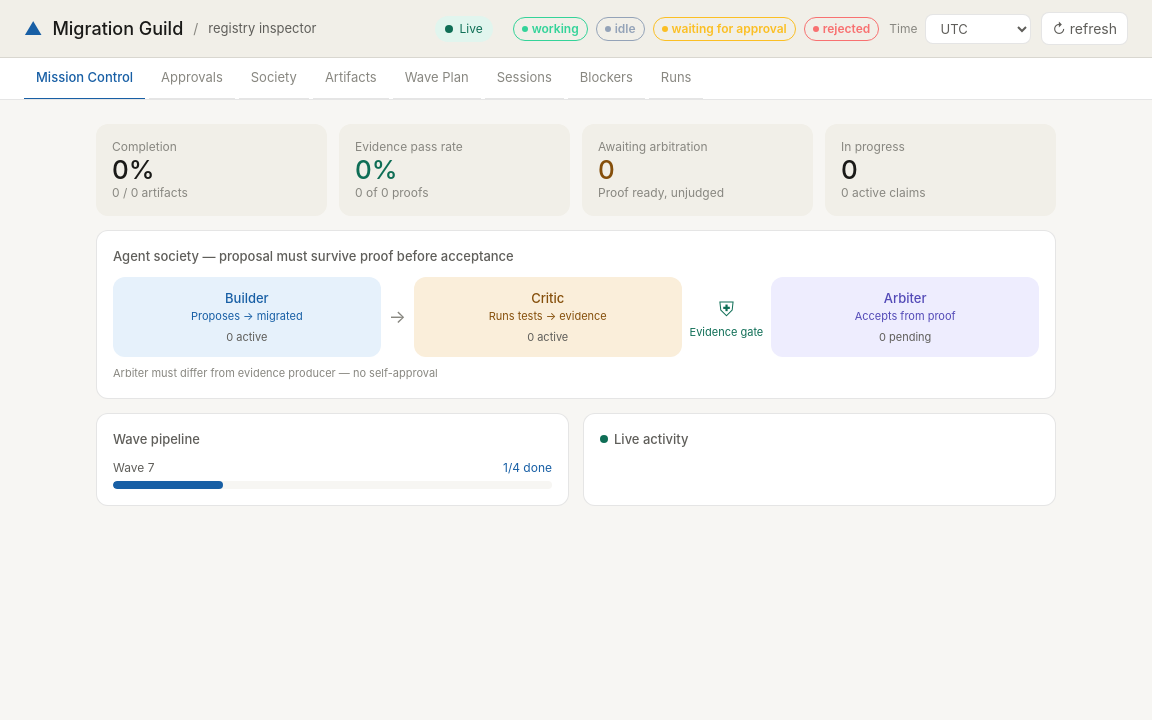
Test case: App shell › shows a loading indicator while data is being fetched
Click the tab "Artifacts" at (351, 78), box [313,58,389,98]
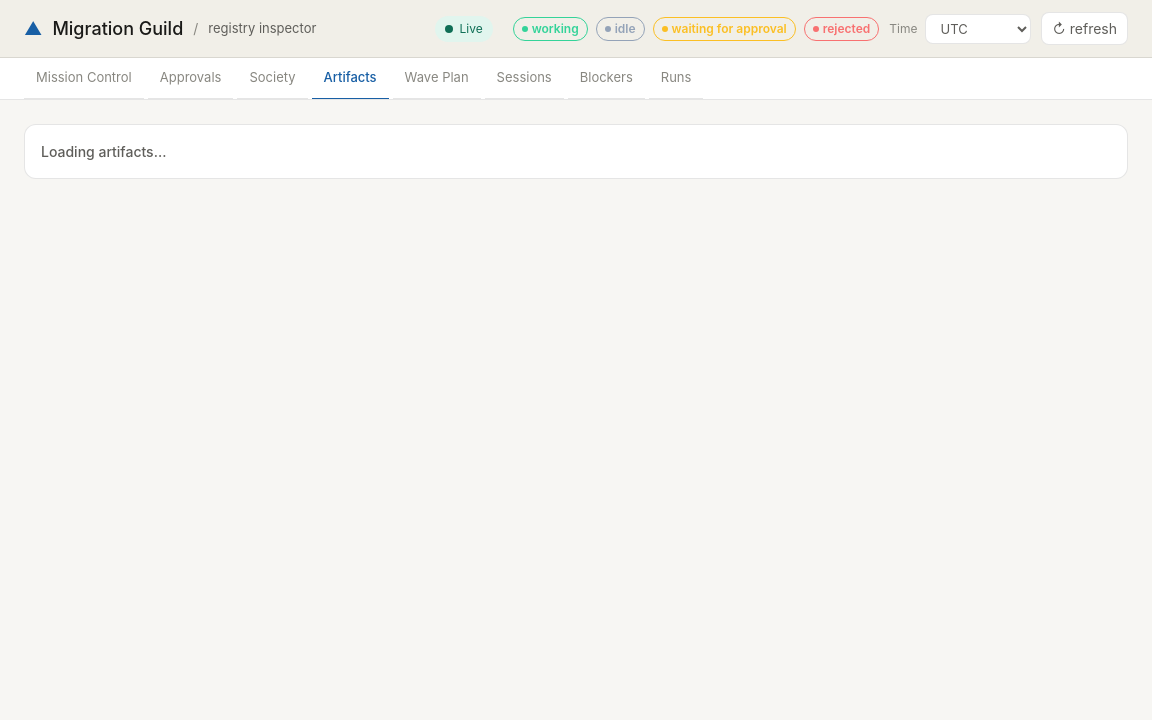
Check: the text "Loading artifacts..." is shown, box [41,142,166,160]
